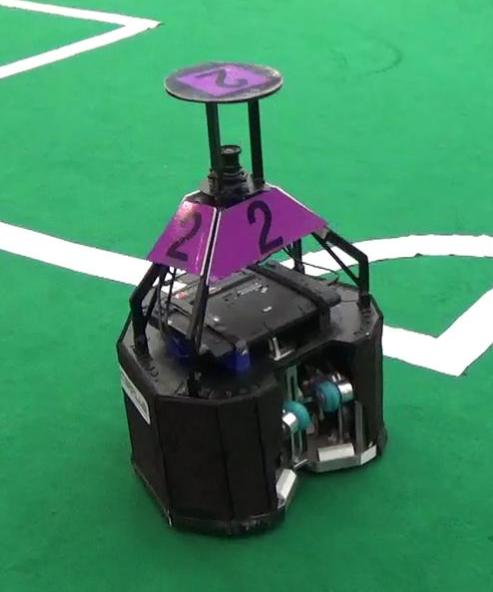robot: (109, 57, 394, 541)
